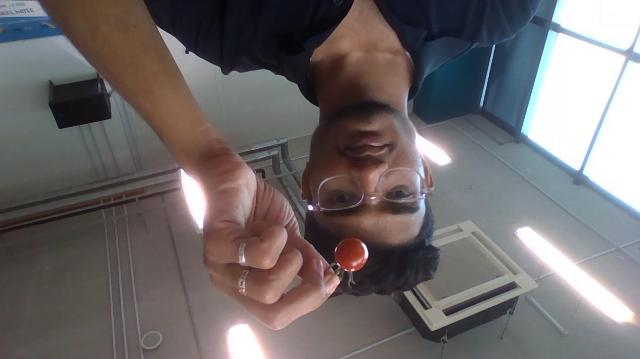Fully Grown: (334, 236, 369, 273)
